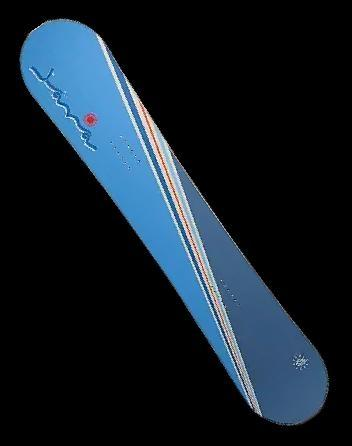Snowboard: (18, 17, 329, 426)
